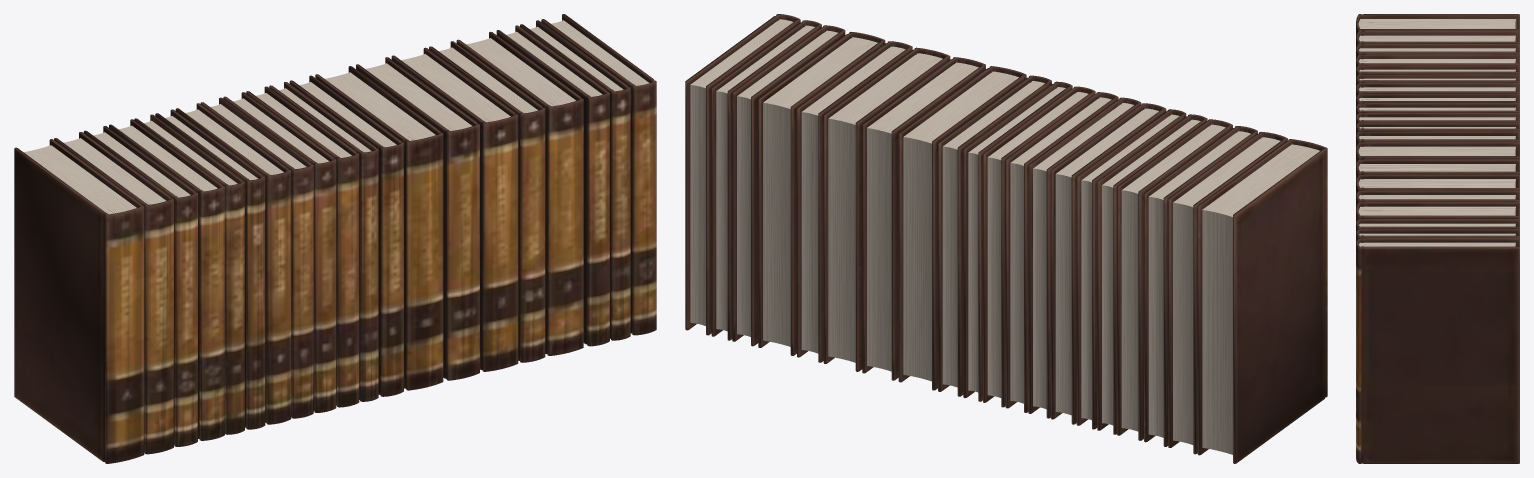
The model's file is book_encyclopedia_set_01.glb.
The picture shows the model from 3 angles, left to right: view 1: azimuth 30°, elevation 25°; view 2: azimuth 150°, elevation 25°; view 3: azimuth 270°, elevation 25°; orthographic projection. The views are drawn at different scales.
Visible parts, largest first — view 1: book_encyclopedia_set_01_book01; view 2: book_encyclopedia_set_01_book01; view 3: book_encyclopedia_set_01_book01.
Part boxes in pixels (x1=…): book_encyclopedia_set_01_book01: x1=14, y1=14, x2=656, y2=463; book_encyclopedia_set_01_book01: x1=685, y1=14, x2=1327, y2=463; book_encyclopedia_set_01_book01: x1=1356, y1=14, x2=1519, y2=463.
Size of the model in its own units: 0.5513 by 0.2374 by 0.1631.
Materials: 2 (2 with a texture image).
